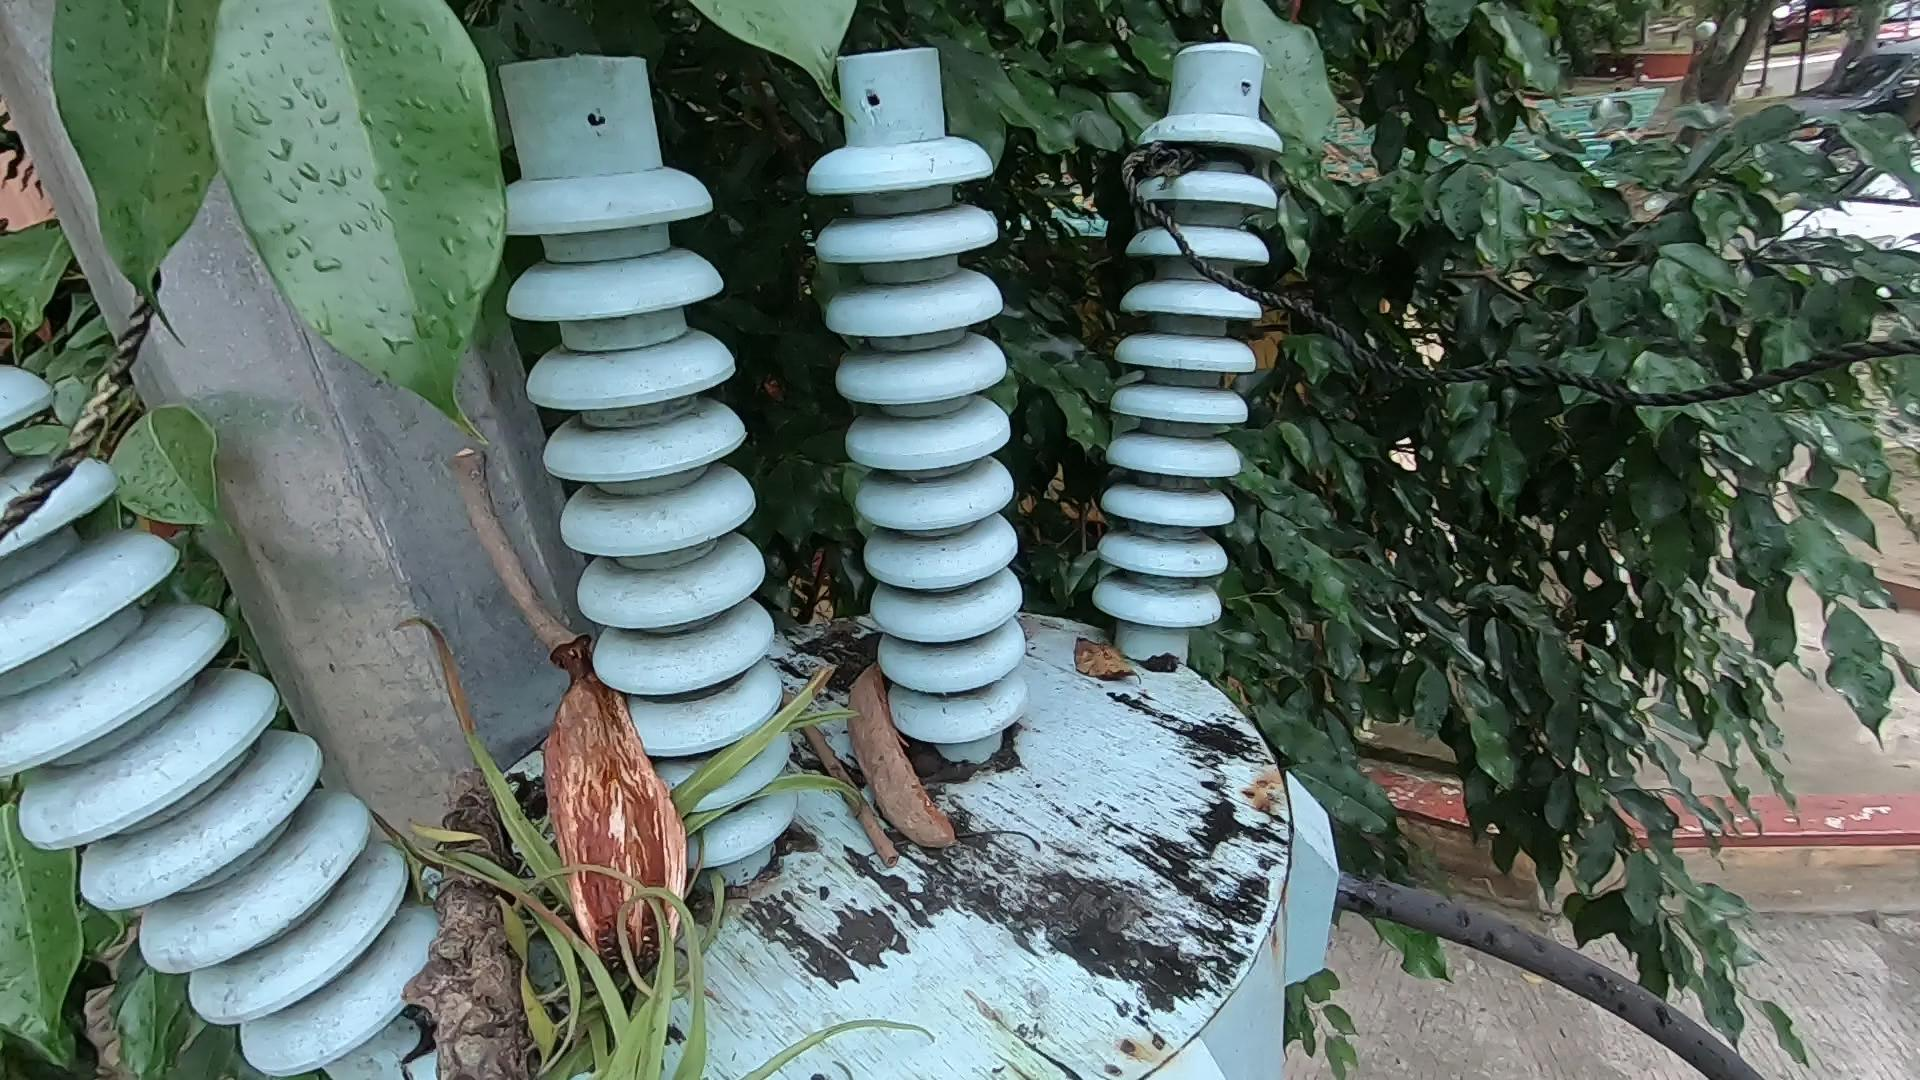branch with leaves: (433, 748, 735, 1080)
leaf: (1064, 613, 1135, 698)
mahogany fruit: (529, 659, 678, 1051), (843, 661, 945, 876)
tree branch: (422, 436, 576, 657), (781, 709, 899, 865)
